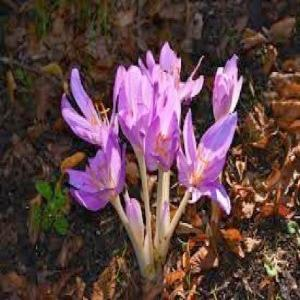Saffron: (182, 113, 236, 213), (66, 70, 126, 152), (62, 140, 126, 212), (212, 55, 244, 125), (146, 113, 183, 170)
